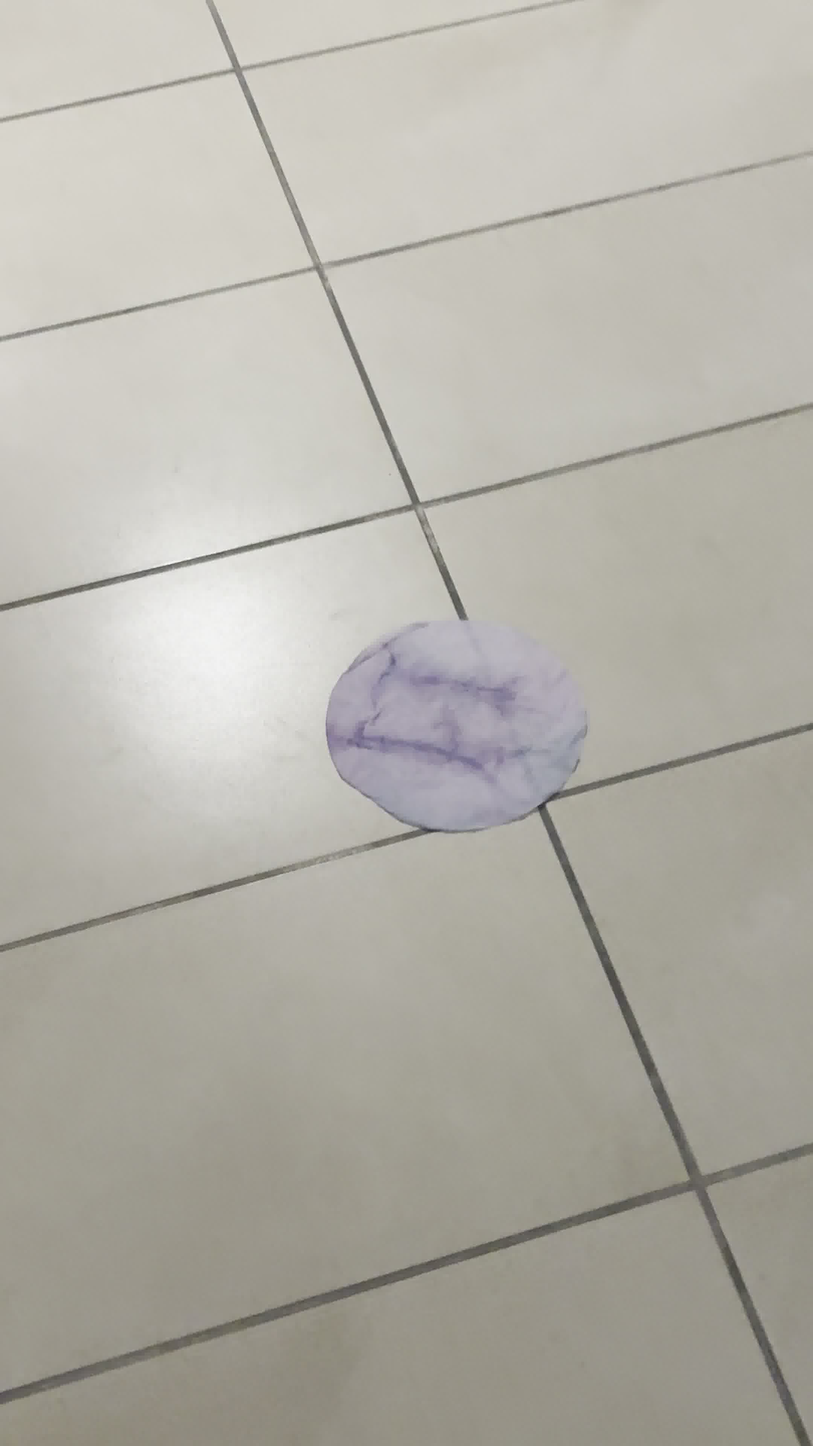Target: (328, 615, 596, 833)
